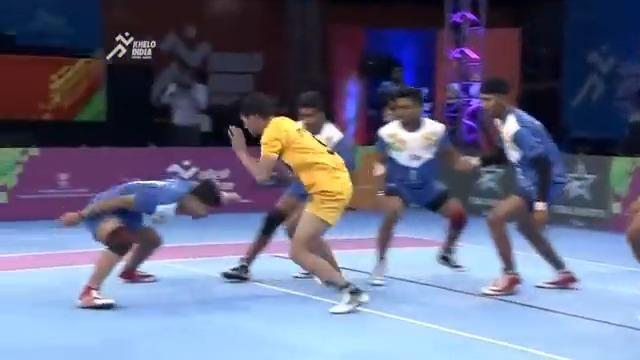Player: (465, 76, 581, 296), (55, 175, 237, 309), (366, 83, 480, 286)
Raider: (221, 90, 370, 314)
